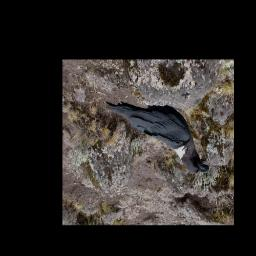Crow: (104, 99, 210, 174)
